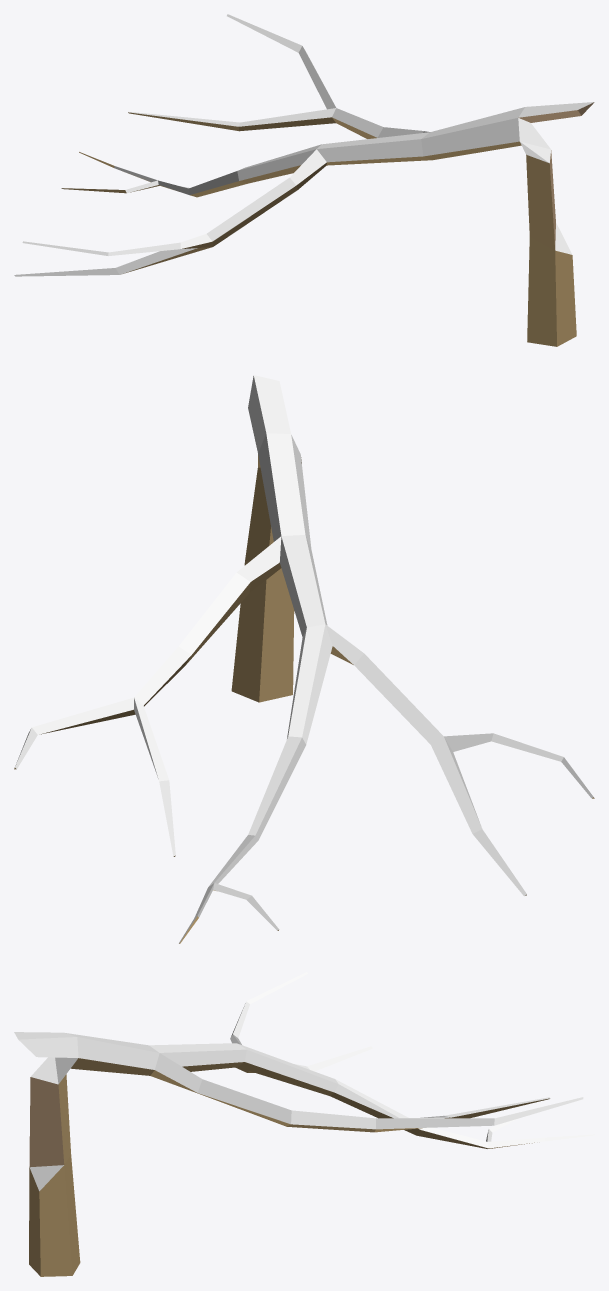
Rendered from Acacia_Tree_NoLeaves_crk_l_Snow_04_LOD.fbx.
The picture shows the model from 3 angles, top to bottom: view 1: azimuth 30°, elevation 25°; view 2: azimuth 150°, elevation 25°; view 3: azimuth 270°, elevation 25°; orthographic projection. The views are drawn at different scales.
Visible parts, largest first — view 1: Acacia_Tree_NoLeaves_crk_l_Snow_04_LOD0; view 2: Acacia_Tree_NoLeaves_crk_l_Snow_04_LOD0; view 3: Acacia_Tree_NoLeaves_crk_l_Snow_04_LOD0.
Part boxes in pixels (<box>): Acacia_Tree_NoLeaves_crk_l_Snow_04_LOD0: <box>14,14,594,346</box>; Acacia_Tree_NoLeaves_crk_l_Snow_04_LOD0: <box>14,375,594,943</box>; Acacia_Tree_NoLeaves_crk_l_Snow_04_LOD0: <box>14,972,594,1276</box>.
Size of what is drawn, in the model's own units: 666 by 358 by 784.
